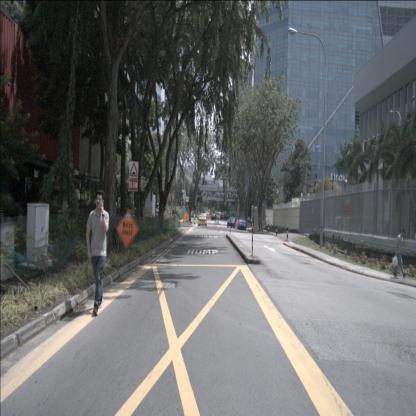human-pedestrian-adult: (86, 190, 109, 316), (392, 228, 408, 278)
vehicle-car: (227, 216, 238, 228), (198, 214, 207, 226), (237, 218, 246, 230), (220, 213, 227, 221), (211, 214, 216, 221)
